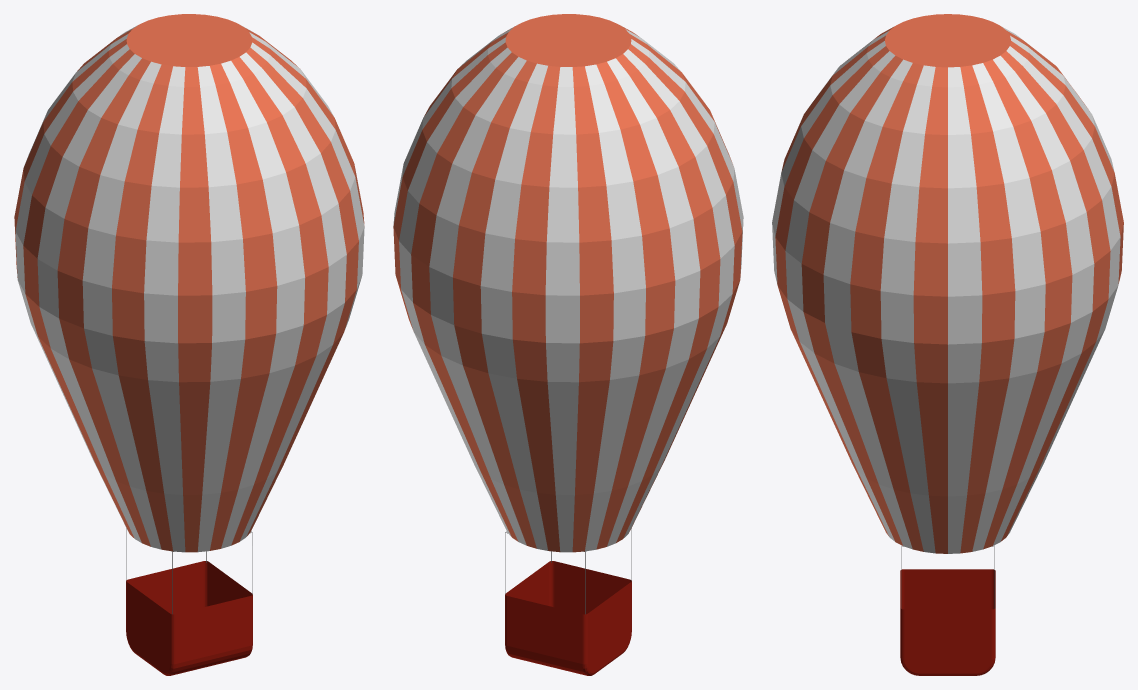
File: Montgolfière.fbx
3 views of the same model, side by side, from view 1: azimuth 30°, elevation 25°; view 2: azimuth 150°, elevation 25°; view 3: azimuth 270°, elevation 25° (orthographic).
Parts seen in each view (by area): view 1: Ballon, Caisse; view 2: Ballon, Caisse; view 3: Ballon, Caisse.
Part boxes in pixels (box(x1,y1,x2,y2)): Ballon: box(14, 14, 364, 552); Caisse: box(126, 561, 252, 675); Ballon: box(393, 14, 743, 552); Caisse: box(505, 561, 631, 675); Ballon: box(772, 14, 1123, 553); Caisse: box(900, 569, 995, 675).
Size of the model in its own units: 413 by 798 by 413.
